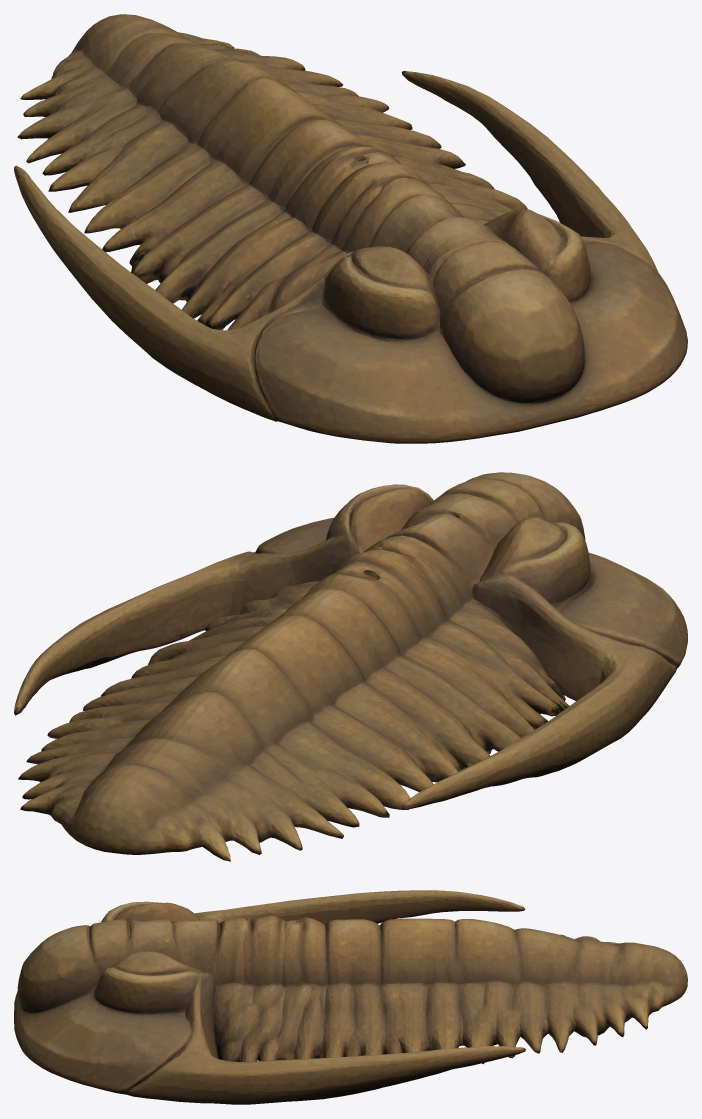
3 renders of one model, top to bottom at view 1: azimuth 30°, elevation 25°; view 2: azimuth 150°, elevation 25°; view 3: azimuth 270°, elevation 25°, orthographic. The views are drawn at different scales.
Parts seen in each view (by area): view 1: world; view 2: world; view 3: world.
Part boxes in pixels (bbox=[...]): world: bbox=[14, 14, 687, 443]; world: bbox=[14, 472, 687, 861]; world: bbox=[14, 890, 687, 1104].
Bounding box in the file's own units: 0.6118 × 0.1763 × 1.
Materials: 1 (1 with a texture image).
